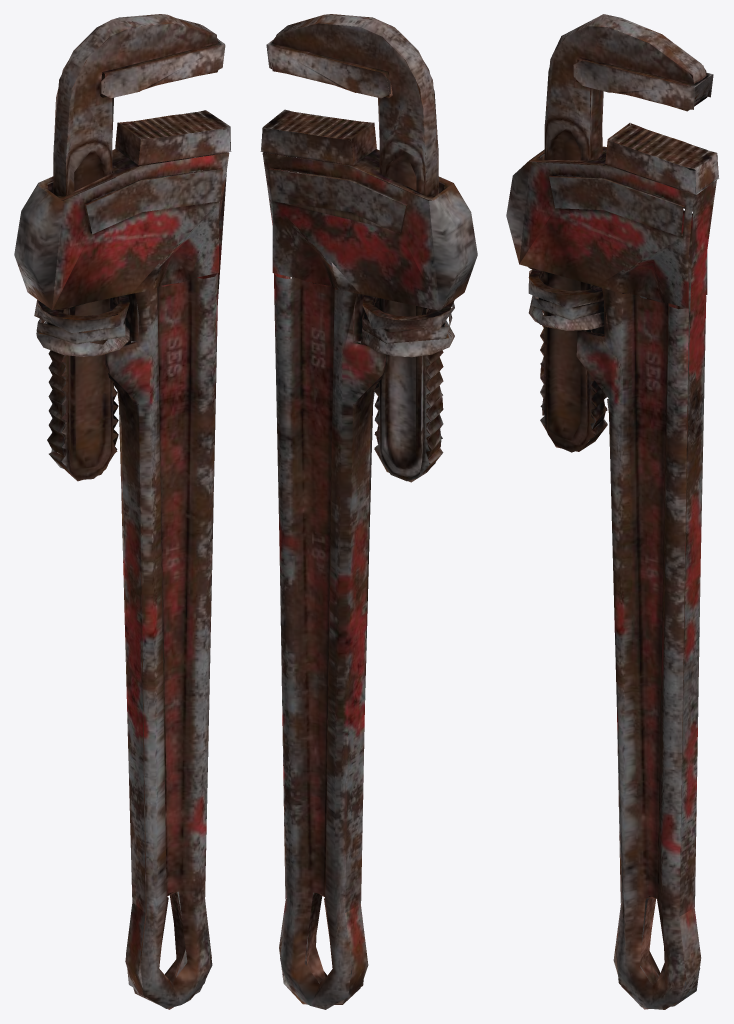
Rendered from pipe_wrench.glb.
3 views of the same model, side by side, from view 1: azimuth 30°, elevation 25°; view 2: azimuth 150°, elevation 25°; view 3: azimuth 330°, elevation 25° (orthographic).
Parts seen in each view (by area): view 1: pipe_wrench; view 2: pipe_wrench; view 3: pipe_wrench.
Part boxes in pixels (x1,y1,x2,y2): pipe_wrench: (14, 14, 231, 1009); pipe_wrench: (260, 14, 477, 1009); pipe_wrench: (506, 14, 719, 1009).
Bounding box in the file's own units: 0.0835 × 0.405 × 0.037.
Materials: 1 (1 with a texture image).
